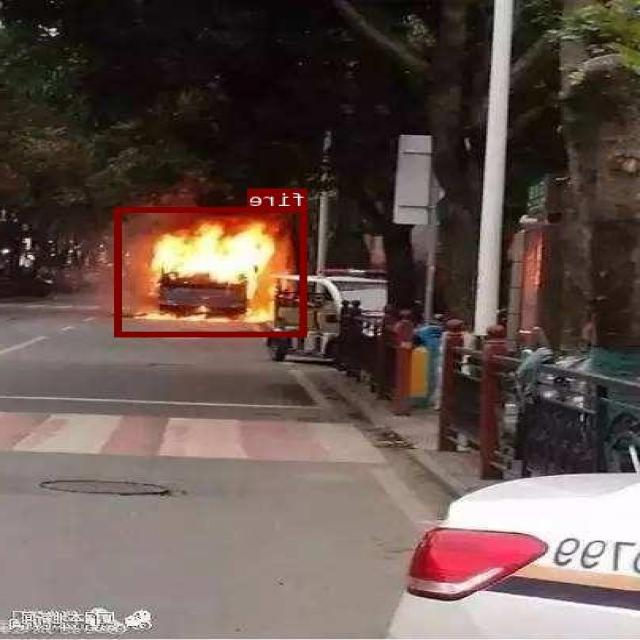fire: (117, 207, 308, 335)
